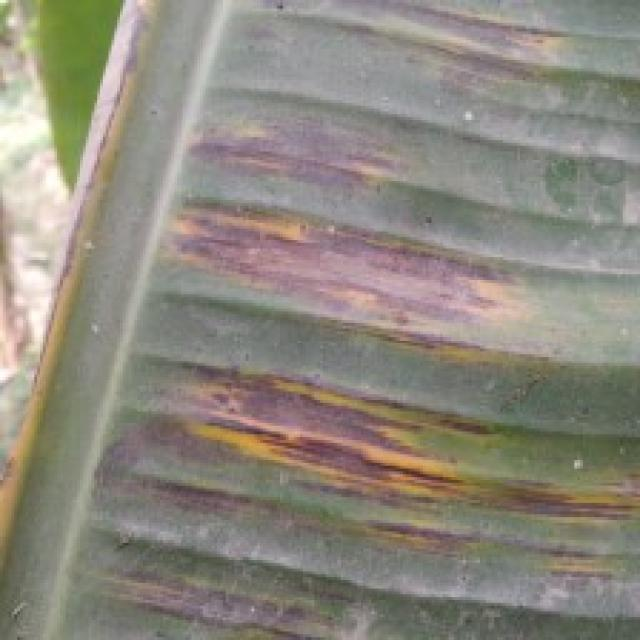Early_leaf_spot: (128, 342, 640, 585), (132, 172, 540, 363), (348, 0, 572, 109), (114, 552, 360, 640), (177, 118, 423, 193)
